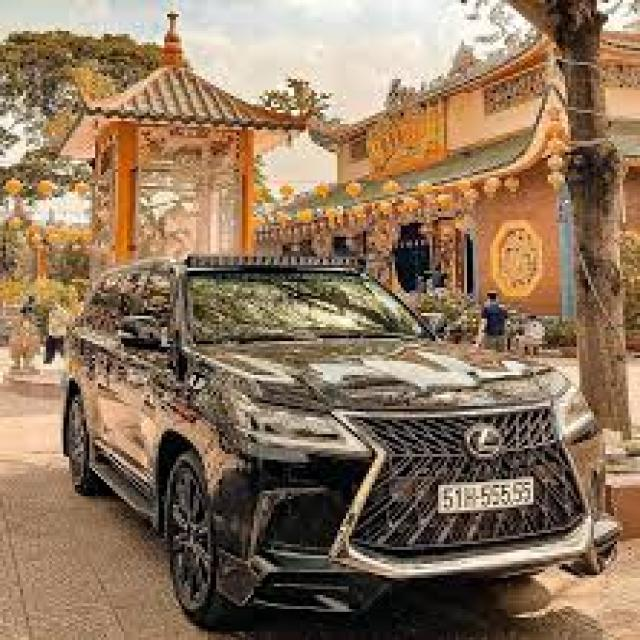bien_so: (438, 481, 540, 513)
